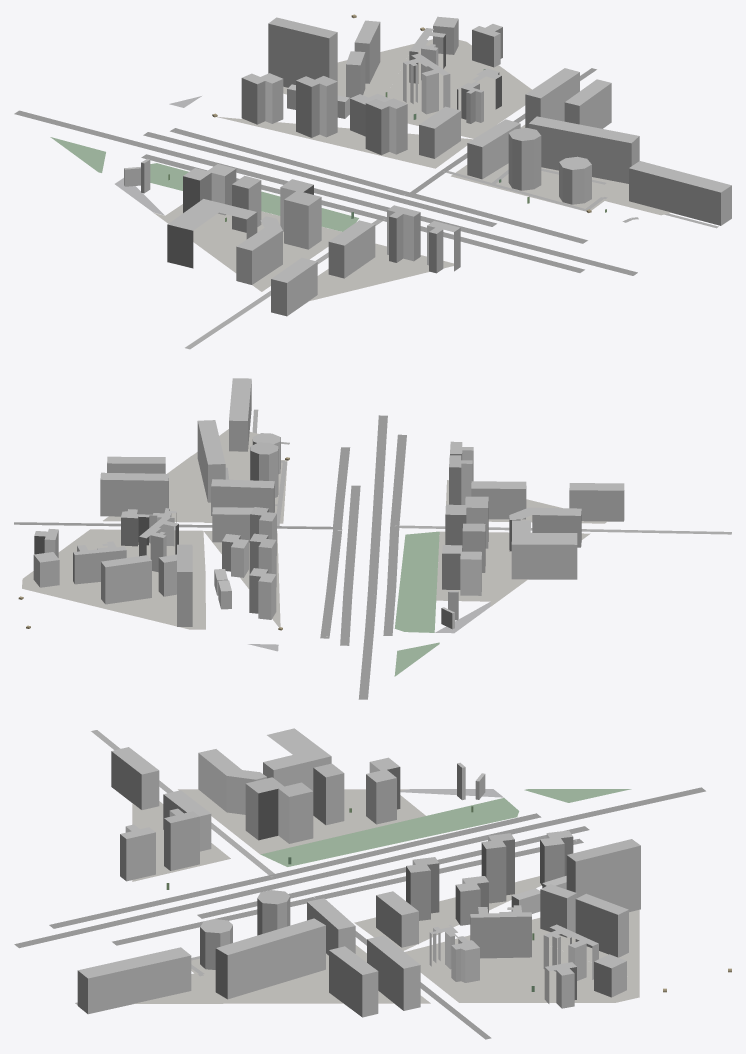
3 views of the same model, one above another, from view 1: azimuth 30°, elevation 25°; view 2: azimuth 150°, elevation 25°; view 3: azimuth 270°, elevation 25° (orthographic). The views are drawn at different scales.
Bounding box in the file's own units: 725 × 70.97 × 708.
